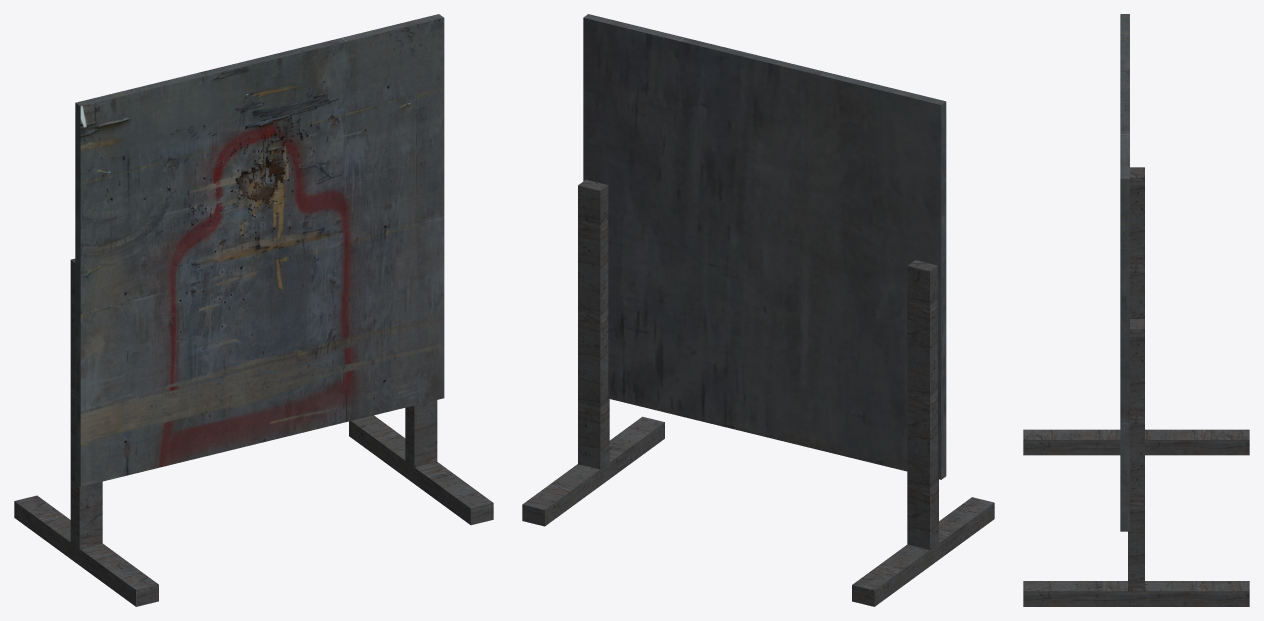
The model's file is target_bawah.glb.
3 renders of one model, left to right at view 1: azimuth 30°, elevation 25°; view 2: azimuth 150°, elevation 25°; view 3: azimuth 270°, elevation 25°, orthographic. The views are drawn at different scales.
Visible parts, largest first — view 1: Target_1; view 2: Target_1; view 3: Target_1.
Part boxes in pixels (x1=…): Target_1: x1=14, y1=14, x2=493, y2=606; Target_1: x1=522, y1=14, x2=994, y2=606; Target_1: x1=1023, y1=14, x2=1249, y2=606.
Bounding box in the file's own units: 2.05 × 2.49 × 1.19.
1 material, 1 textured.
